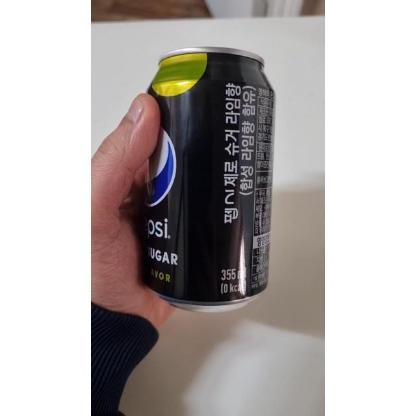Can: (137, 44, 275, 314)
